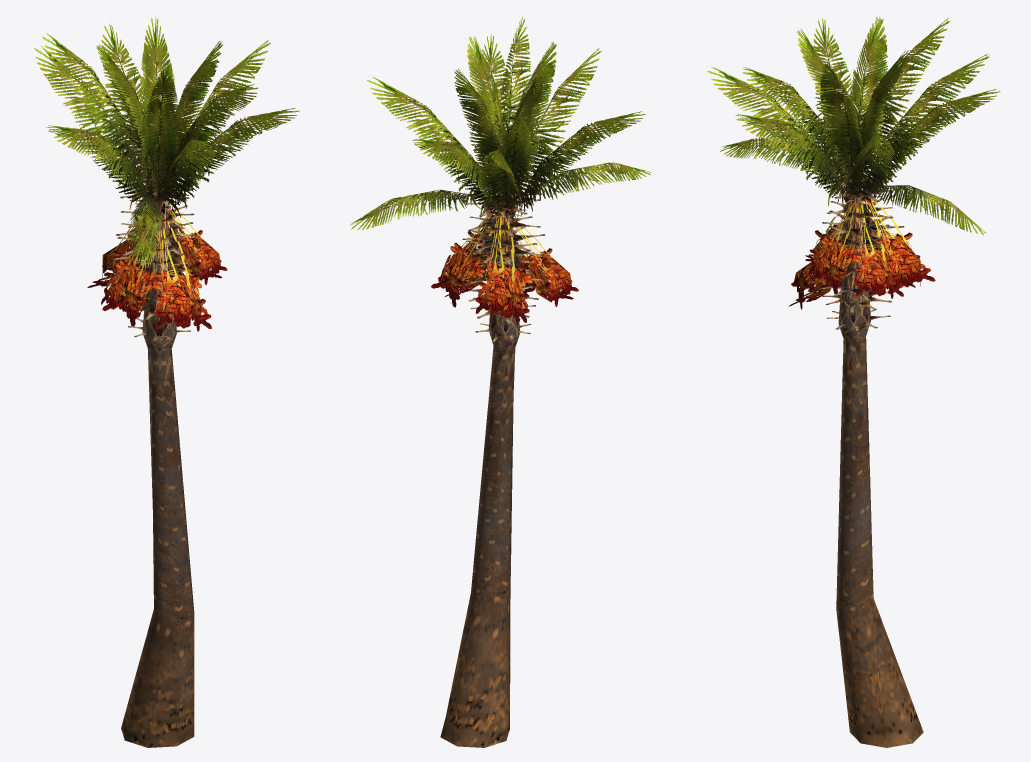
Rendered from palm_date_new_fruit_2.glb.
3 renders of one model, left to right at view 1: azimuth 30°, elevation 25°; view 2: azimuth 150°, elevation 25°; view 3: azimuth 270°, elevation 25°, orthographic. The views are drawn at different scales.
Parts seen in each view (by area): view 1: palm_date_new_fruit_2; view 2: palm_date_new_fruit_2; view 3: palm_date_new_fruit_2.
Boxes of the visible parts, <box> form: palm_date_new_fruit_2: <box>34,17,299,747</box>; palm_date_new_fruit_2: <box>350,16,651,747</box>; palm_date_new_fruit_2: <box>707,17,1000,747</box>.
Size of the model in its own units: 9.41 by 22.37 by 9.57.
Materials: 1 (1 with a texture image).
